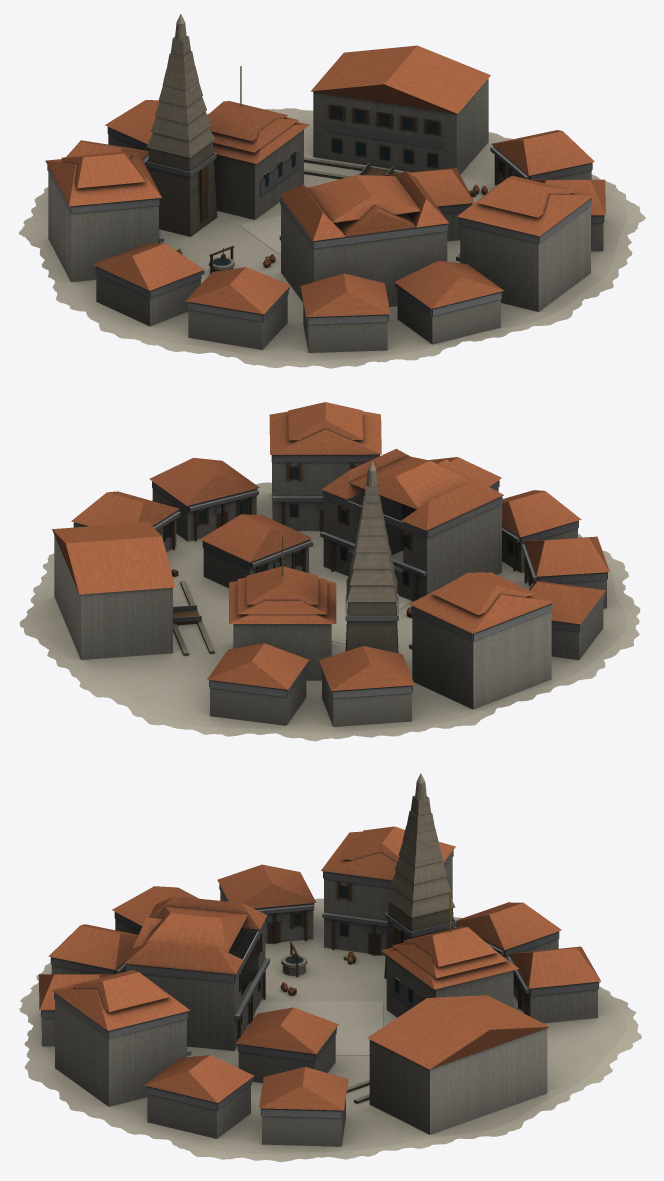
The model's file is gunpowder-town-medium-a-monsoon.glb.
The picture shows the model from 3 angles, top to bottom: view 1: azimuth 30°, elevation 25°; view 2: azimuth 150°, elevation 25°; view 3: azimuth 270°, elevation 25°; orthographic projection.
Parts seen in each view (by area): view 1: LOD0; view 2: LOD0; view 3: LOD0.
Boxes of the visible parts, x1,y1,x2,y2 form: LOD0: [19, 14, 645, 368]; LOD0: [19, 402, 640, 741]; LOD0: [19, 773, 641, 1162].
Size of what is drawn, in the model's own units: 5.97 by 2.19 by 5.97.
Materials: 3 (3 with a texture image).
